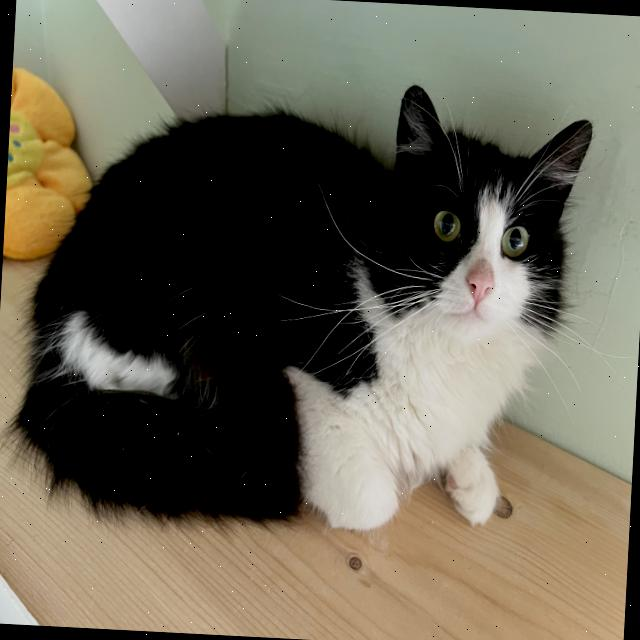maine_coon_cat: (353, 70, 599, 374)
